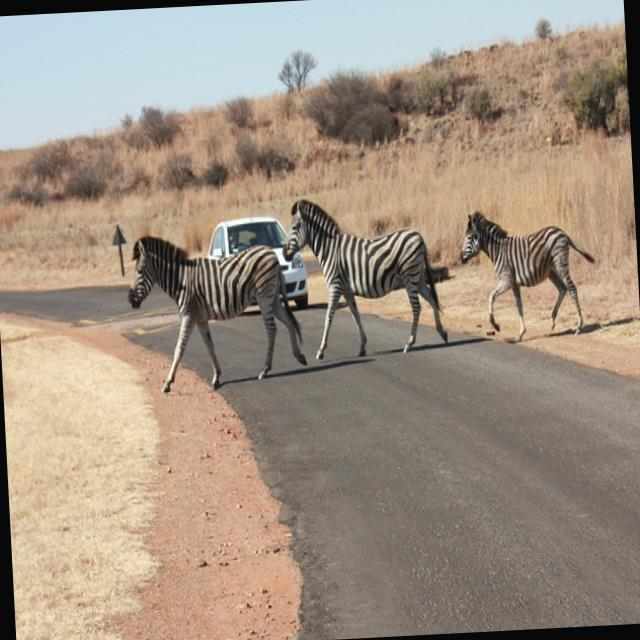Vehicle: (205, 213, 309, 310)
